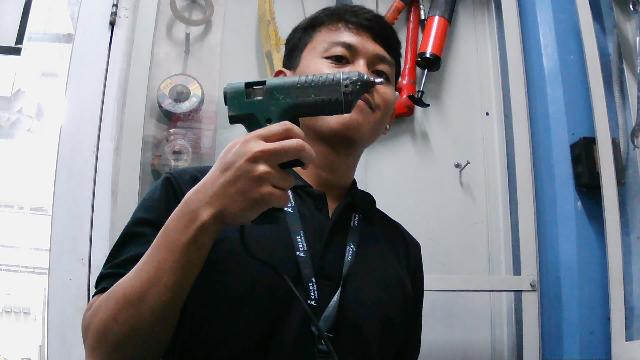gun_lem: (220, 63, 400, 178)
